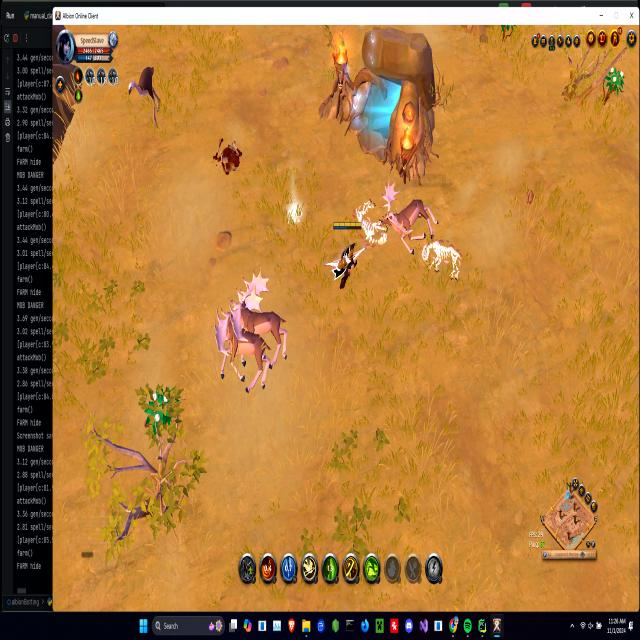hide: (146, 387, 170, 434), (606, 66, 624, 96)
mob: (219, 282, 290, 391), (384, 188, 440, 256)
ore: (127, 61, 164, 122)
red: (331, 218, 362, 284)
stone: (286, 200, 302, 227)
